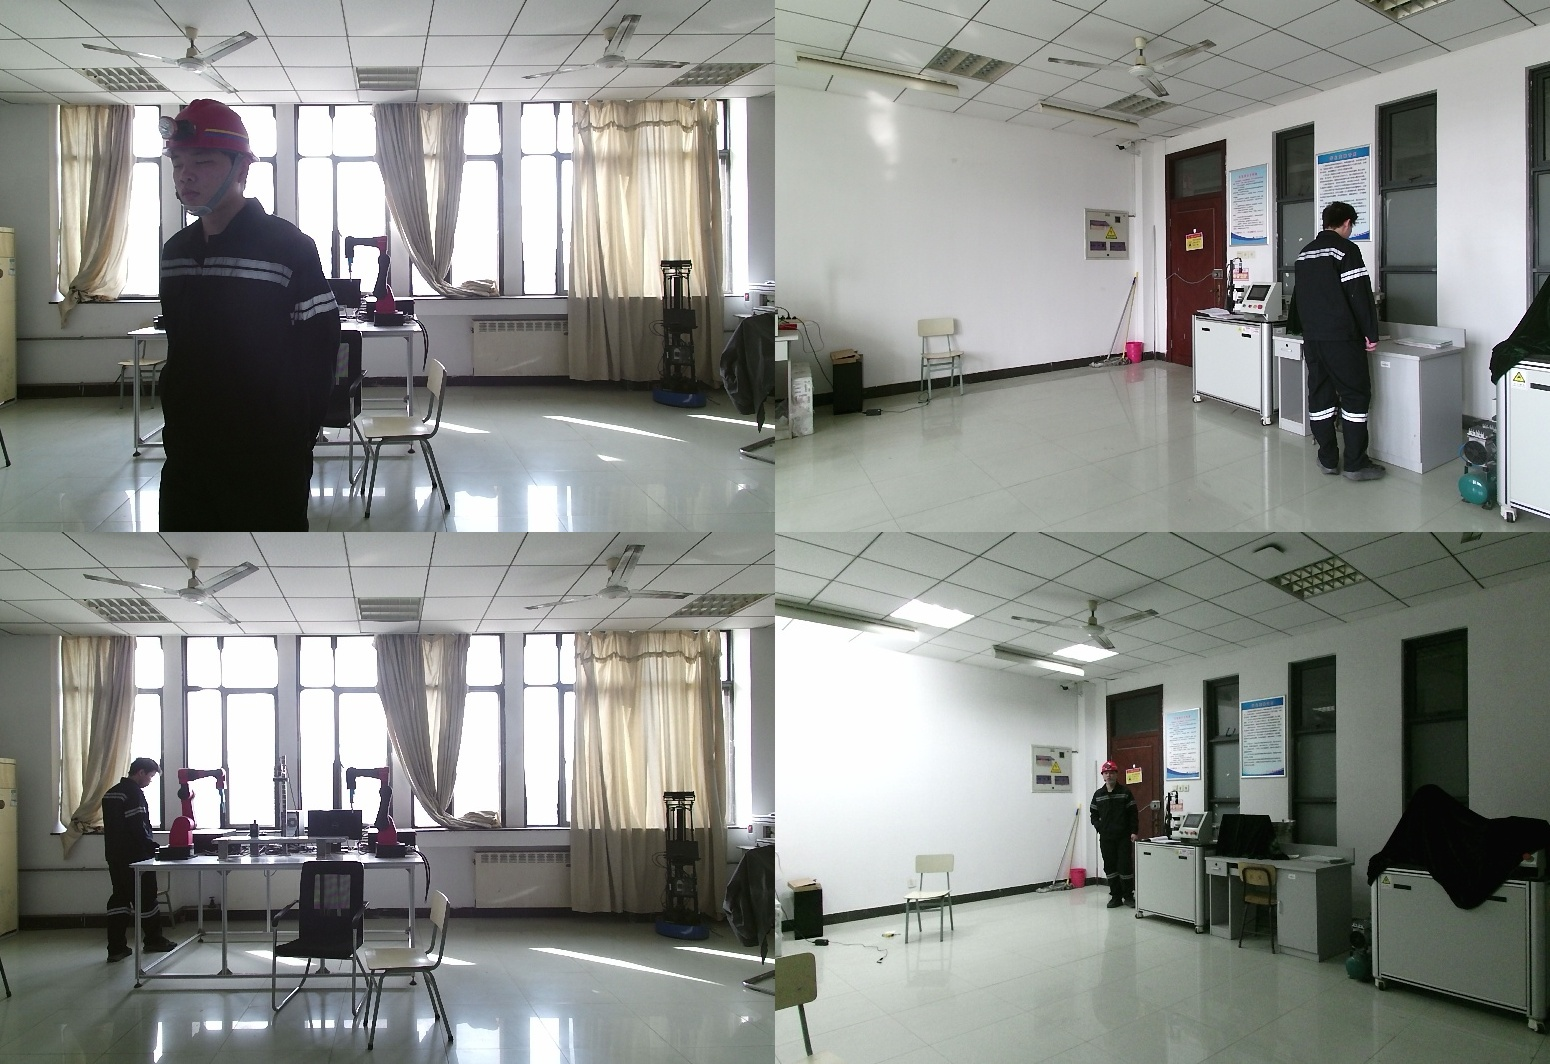person: (156, 98, 340, 532), (1290, 204, 1390, 487), (94, 757, 177, 963), (1089, 762, 1140, 911)
